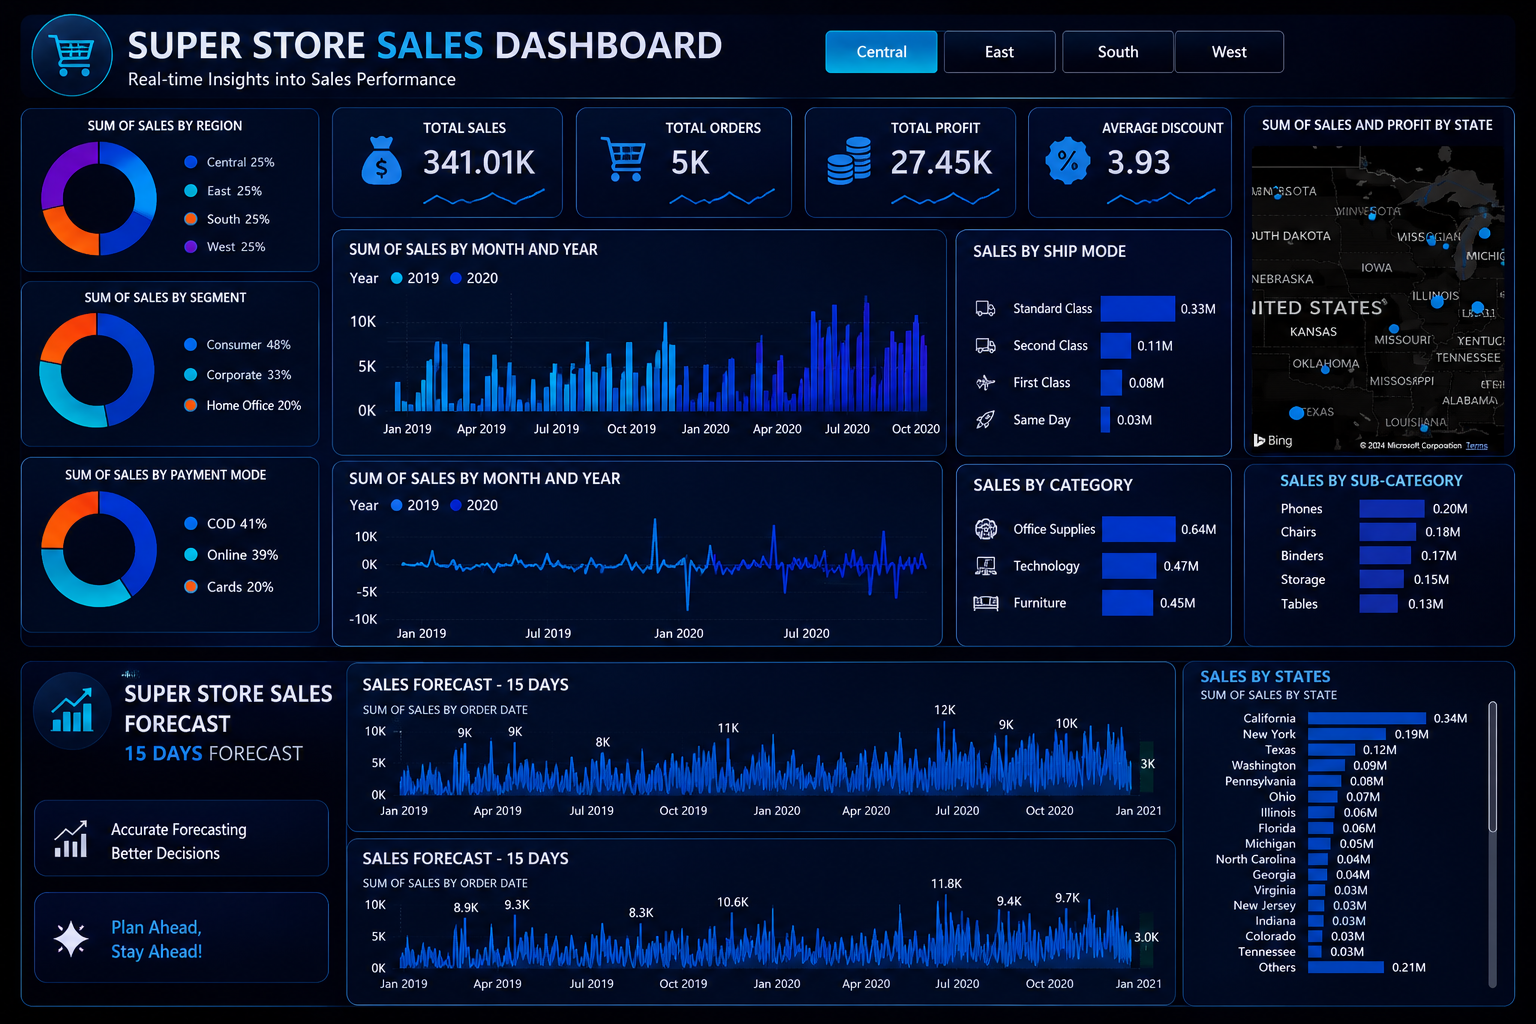

The dashboard page shown, as its layout file describes it:
{"tool":"powerbi","page":{"name":"Dashboard","canvas":[1280,720],"ordinal":0},"visuals":[{"type":"clusteredBarChart","title":" Sales by Category","fields":{"Category":["SuperStore_Sales_Dataset.Category"],"Y":["Sum(SuperStore_Sales_Dataset.Sales)"]},"box":[897.6,471.4,175,228.6],"z":0},{"type":"clusteredBarChart","title":" Sales by Sub-Category","fields":{"Category":["SuperStore_Sales_Dataset.Sub-Category","SuperStore_Sales_Dataset.Category"],"Y":["Sum(SuperStore_Sales_Dataset.Sales)"]},"box":[1094,435.7,175,264.3],"z":1000},{"type":"clusteredBarChart","title":" Sales by Ship Mode","fields":{"Category":["SuperStore_Sales_Dataset.Ship Mode"],"Y":["Sum(SuperStore_Sales_Dataset.Sales)"]},"box":[897.6,217.9,150,222.6],"z":2000},{"type":"stackedAreaChart","title":"Sum of Sales by Month and Year","fields":{"Y":["Sum(SuperStore_Sales_Dataset.Sales)"],"Series":["SuperStore_Sales_Dataset.Order Date.Variation.Date Hierarchy.Year"],"Category":["SuperStore_Sales_Dataset.Order Date"]},"box":[317.9,210.7,566.7,210.7],"z":3000},{"type":"stackedAreaChart","title":"Sum of Sales by Month and Year","fields":{"Series":["SuperStore_Sales_Dataset.Order Date.Variation.Date Hierarchy.Year"],"Category":["SuperStore_Sales_Dataset.Order Date"],"Y":["Sum(SuperStore_Sales_Dataset.Profit)"]},"box":[317.9,440.5,566.7,272.6],"z":4000},{"type":"map","fields":{"Category":["SuperStore_Sales_Dataset (2).State"],"Size":["Sum(SuperStore_Sales_Dataset (2).Sales)"]},"box":[1057.1,13.1,211.9,395.2],"z":5000},{"type":"donutChart","fields":{"Category":["SuperStore_Sales_Dataset (2).Segment"],"Y":["Sum(SuperStore_Sales_Dataset (2).Sales)"]},"box":[13.1,307.1,288.1,188.1],"z":6000},{"type":"donutChart","fields":{"Category":["SuperStore_Sales_Dataset (2).Payment Mode"],"Y":["Sum(SuperStore_Sales_Dataset (2).Sales)"]},"box":[13.1,511.9,288.1,201.2],"z":7000},{"type":"slicer","fields":{"Values":["SuperStore_Sales_Dataset (2).Region"]},"box":[563.1,15.5,482.1,60.7],"z":8000},{"type":"textbox","box":[13.1,13.1,523.8,63.1],"z":9000},{"type":"cardVisual","title":"sales","fields":{"Data":["Sum(SuperStore_Sales_Dataset (2).Sales)"]},"box":[332.1,89.3,175,107.1],"z":10000},{"type":"cardVisual","title":"sales","fields":{"Data":["Sum(SuperStore_Sales_Dataset (2).Quantity)"]},"box":[519,88.1,121.4,107.1],"z":11000},{"type":"cardVisual","title":"sales","fields":{"Data":["Sum(SuperStore_Sales_Dataset (2).Profit)"]},"box":[661.9,89.3,175,107.1],"z":12000},{"type":"cardVisual","title":"sales","fields":{"Data":["Avg(SuperStore_Sales_Dataset.AvgDelivery)"]},"box":[859.5,88.1,185.7,107.1],"z":13000},{"type":"donutChart","fields":{"Category":["SuperStore_Sales_Dataset.Region"],"Y":["Sum(SuperStore_Sales_Dataset (2).Sales)"]},"box":[13.1,96.4,288.1,198.8],"z":14000}]}

Visuals, with their boxes on the page's 1280x720 design canvas (x1, y1, x2, y2). These are canvas units, not pixel positions in the 1536x1024 screenshot, which may show the page scaled, cropped or inside an application window:
" Sales by Category" clusteredBarChart: 898:471:1073:700
" Sales by Sub-Category" clusteredBarChart: 1094:436:1269:700
" Sales by Ship Mode" clusteredBarChart: 898:218:1048:440
"Sum of Sales by Month and Year" stackedAreaChart: 318:211:885:421
"Sum of Sales by Month and Year" stackedAreaChart: 318:440:885:713
map - SuperStore_Sales_Dataset (2).State x Sum(SuperStore_Sales_Dataset (2).Sales): 1057:13:1269:408
donutChart - SuperStore_Sales_Dataset (2).Segment x Sum(SuperStore_Sales_Dataset (2).Sales): 13:307:301:495
donutChart - SuperStore_Sales_Dataset (2).Payment Mode x Sum(SuperStore_Sales_Dataset (2).Sales): 13:512:301:713
slicer - SuperStore_Sales_Dataset (2).Region: 563:16:1045:76
textbox: 13:13:537:76
"sales" cardVisual: 332:89:507:196
"sales" cardVisual: 519:88:640:195
"sales" cardVisual: 662:89:837:196
"sales" cardVisual: 860:88:1045:195
donutChart - SuperStore_Sales_Dataset.Region x Sum(SuperStore_Sales_Dataset (2).Sales): 13:96:301:295
